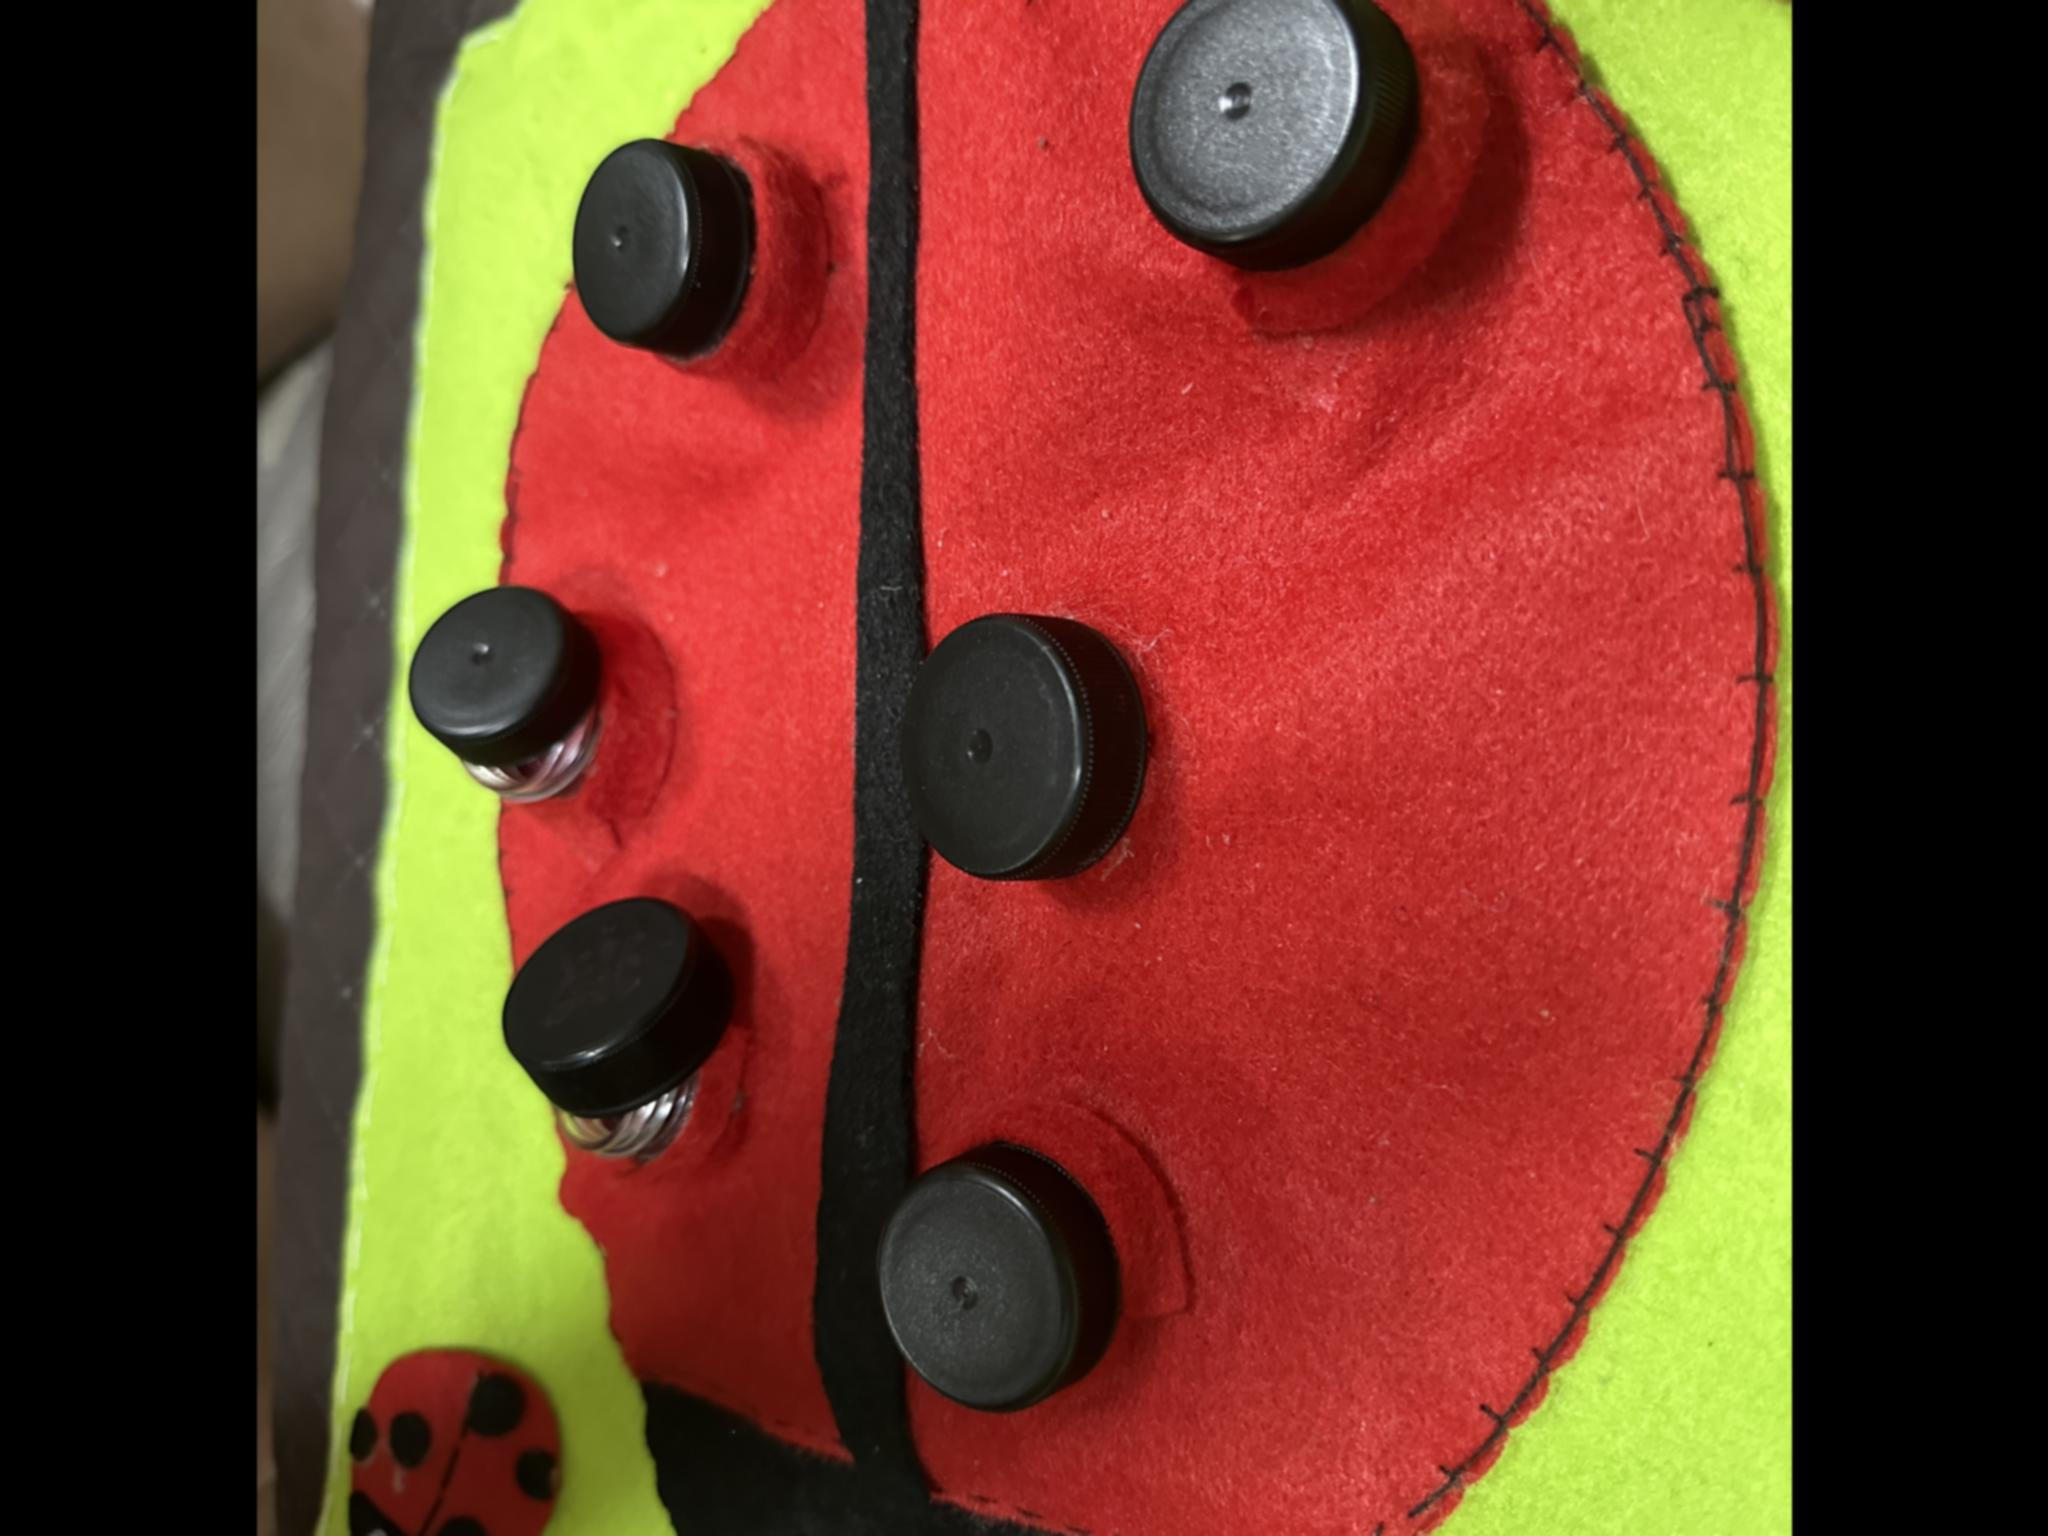cap_ng: (477, 879, 779, 1199), (395, 582, 637, 815)
cap_ok: (1114, 0, 1524, 365), (856, 1099, 1219, 1436), (889, 582, 1179, 928), (558, 131, 848, 395)
